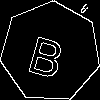B: (25, 27, 70, 80)
